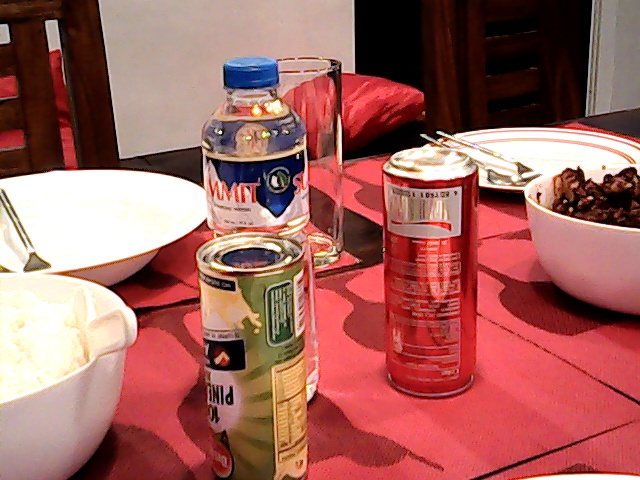Cola: (372, 151, 480, 389)
Pine Juice: (195, 243, 308, 480)
Summit Water: (202, 57, 306, 242)
